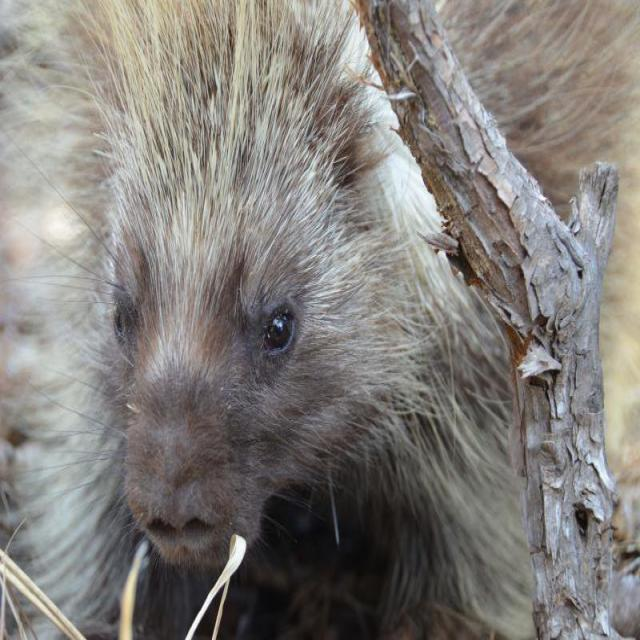Porcupine: (2, 2, 453, 636)
